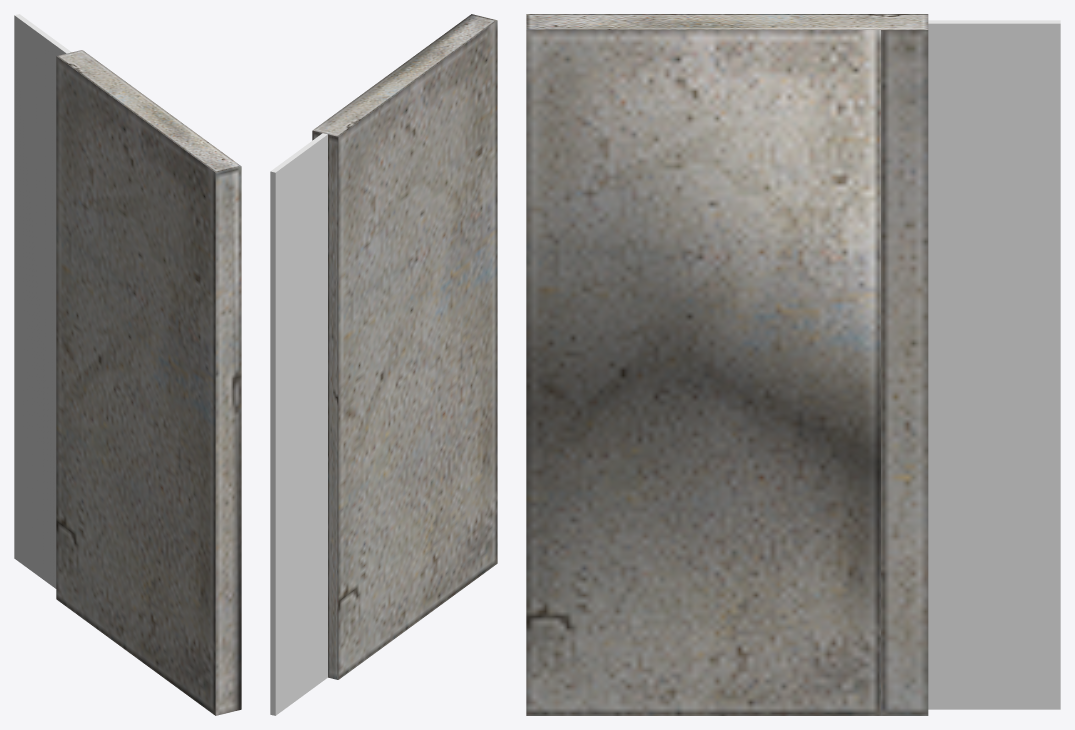
The model's file is SM_SYD_BalconySection_Short.fbx.
The picture shows the model from 3 angles, left to right: view 1: azimuth 30°, elevation 25°; view 2: azimuth 150°, elevation 25°; view 3: azimuth 270°, elevation 25°; orthographic projection. The views are drawn at different scales.
Parts seen in each view (by area): view 1: SM_SYD_BalconySection_Short; view 2: SM_SYD_BalconySection_Short; view 3: SM_SYD_BalconySection_Short.
Part boxes in pixels (x1,y1,x2,y2): SM_SYD_BalconySection_Short: [14, 14, 241, 715]; SM_SYD_BalconySection_Short: [270, 14, 497, 715]; SM_SYD_BalconySection_Short: [526, 14, 1060, 715].
Size of the model in its own units: 20 by 400 by 282.
